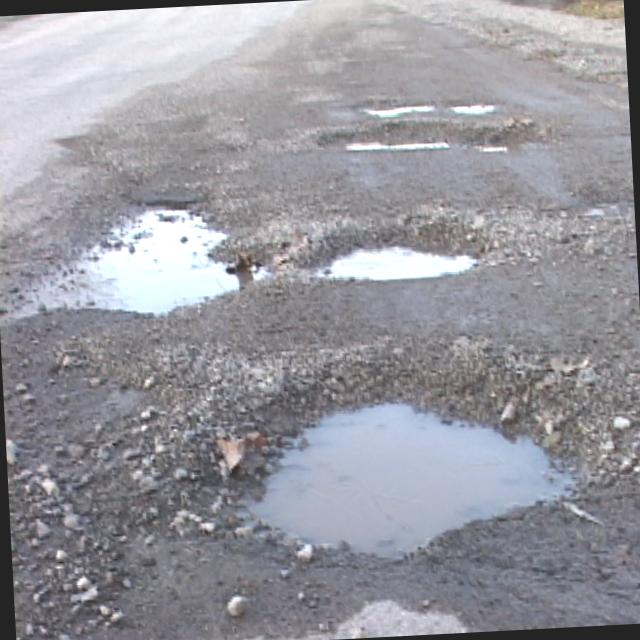bad-road: (225, 390, 587, 570), (18, 192, 274, 322), (296, 237, 484, 288), (317, 117, 543, 158), (351, 100, 441, 122), (447, 98, 501, 118)
